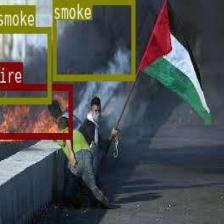fire: (0, 83, 72, 138)
smoke: (53, 0, 134, 79), (0, 26, 51, 102)
